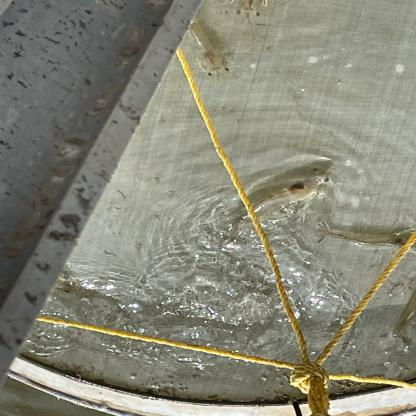shrimp: (226, 164, 334, 237), (313, 219, 416, 254), (188, 18, 231, 78)
